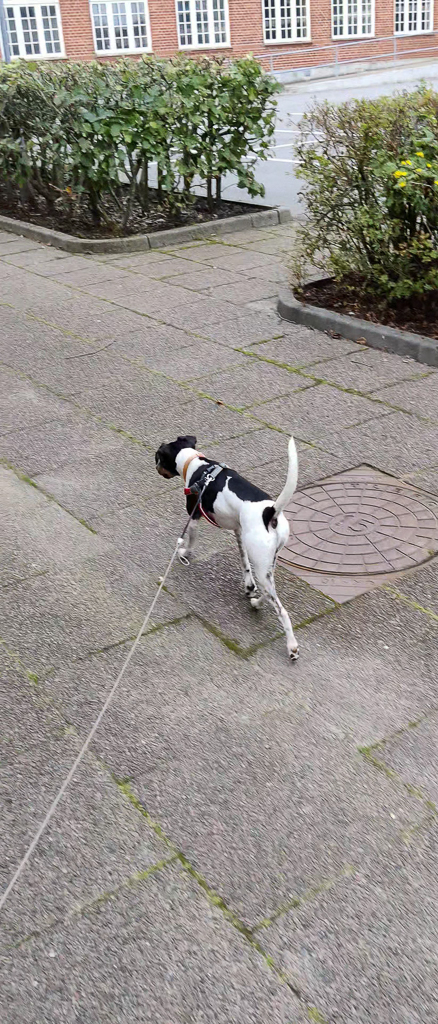Dog: (143, 428, 321, 679)
